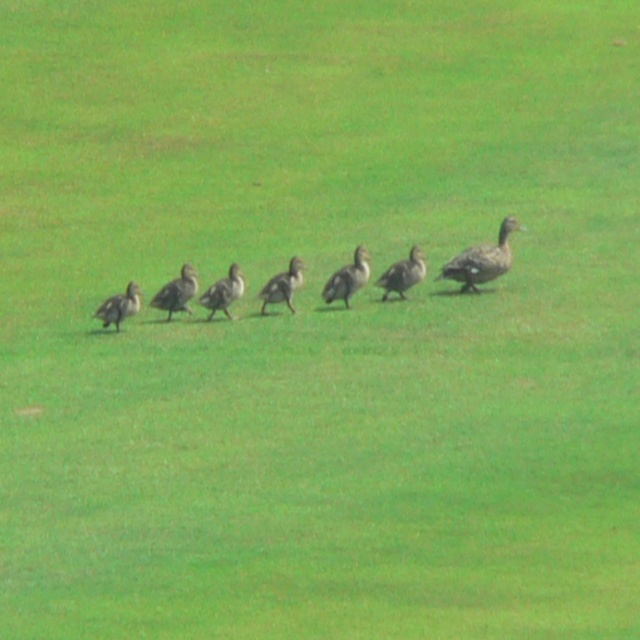Duck: (439, 208, 531, 292), (188, 258, 250, 323), (257, 254, 313, 318), (150, 259, 204, 322), (370, 245, 428, 303), (92, 278, 150, 331), (322, 243, 368, 309)
